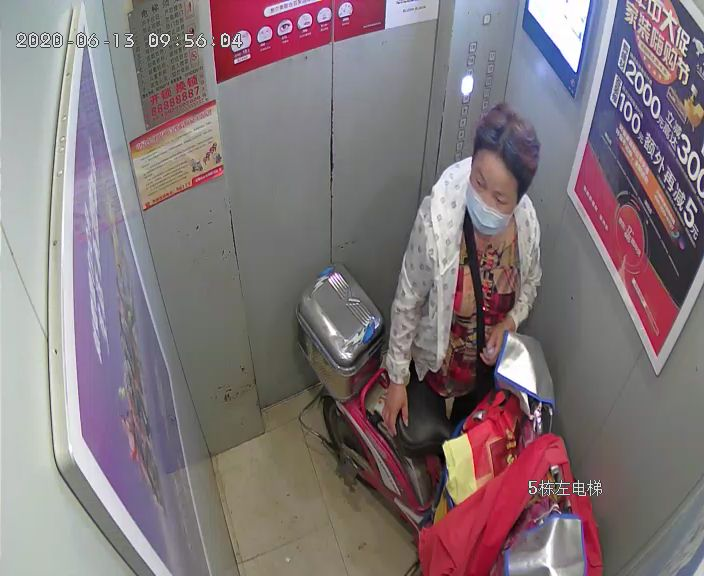Electric-bicycle: (295, 261, 579, 576)
